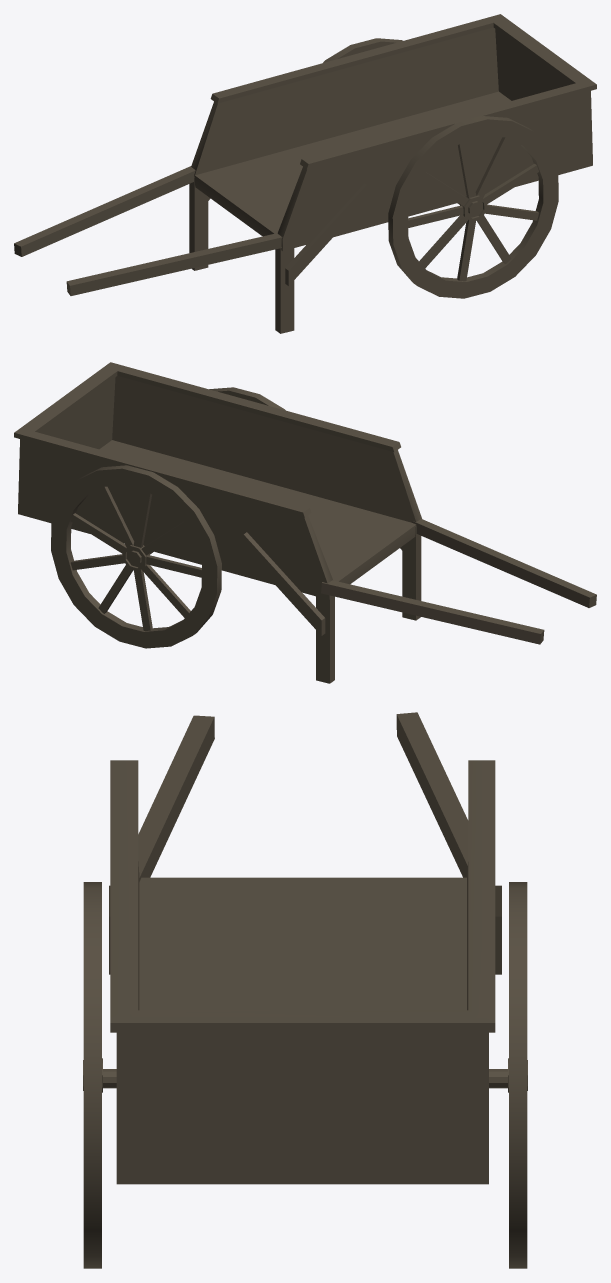
The model's file is chariot.fbx.
3 renders of one model, top to bottom at view 1: azimuth 30°, elevation 25°; view 2: azimuth 150°, elevation 25°; view 3: azimuth 270°, elevation 25°, orthographic. The views are drawn at different scales.
Visible parts, largest first — view 1: chariot; view 2: chariot; view 3: chariot.
Boxes of the visible parts, x1,y1,x2,y2 form: chariot: [14, 14, 596, 333]; chariot: [14, 362, 596, 683]; chariot: [83, 712, 527, 1268].
Size of the model in its own units: 201 by 66.38 by 76.34.
